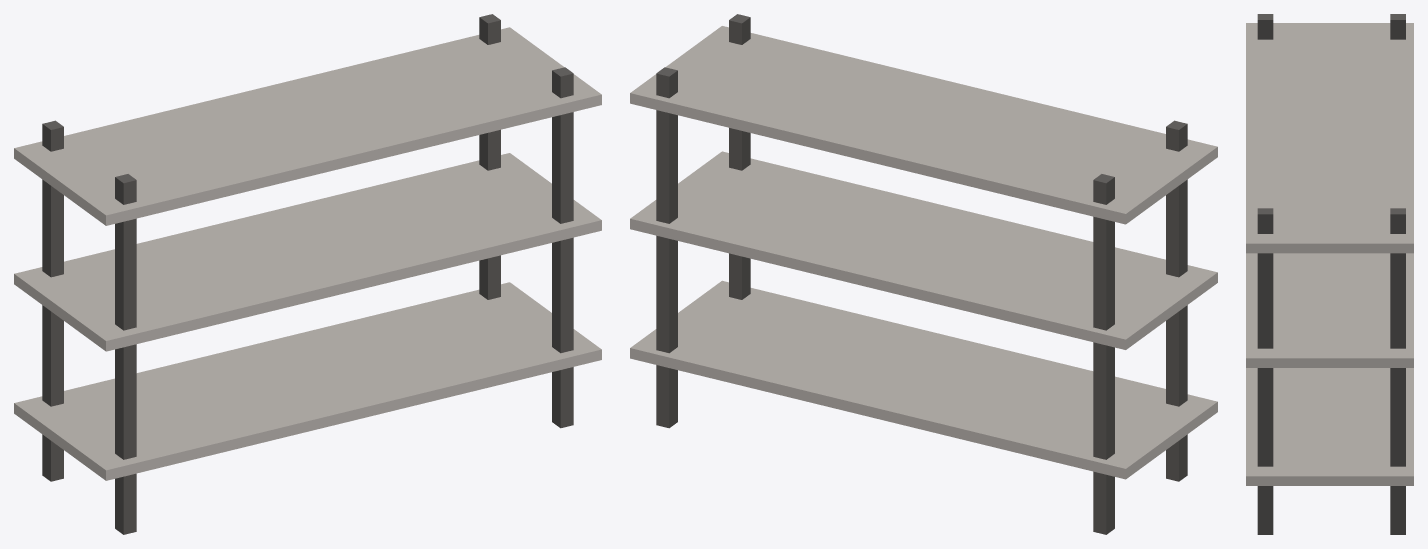
File: Shelf4.glb
3 views of the same model, side by side, from view 1: azimuth 30°, elevation 25°; view 2: azimuth 150°, elevation 25°; view 3: azimuth 270°, elevation 25° (orthographic). The views are drawn at different scales.
Parts seen in each view (by area): view 1: SI_Prop_Shelf_04; view 2: SI_Prop_Shelf_04; view 3: SI_Prop_Shelf_04.
Boxes of the visible parts, left/top/right/bottom form: SI_Prop_Shelf_04: left=14, top=14, right=601, bottom=534; SI_Prop_Shelf_04: left=630, top=14, right=1217, bottom=534; SI_Prop_Shelf_04: left=1246, top=14, right=1413, bottom=534.
Bounding box in the file's own units: 0.0463 × 0.0314 × 0.0149.
Materials: 1 (1 with a texture image).
